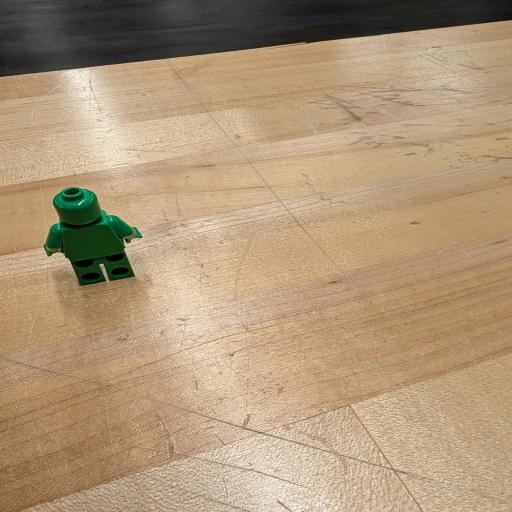Minifig: (44, 187, 142, 285)
